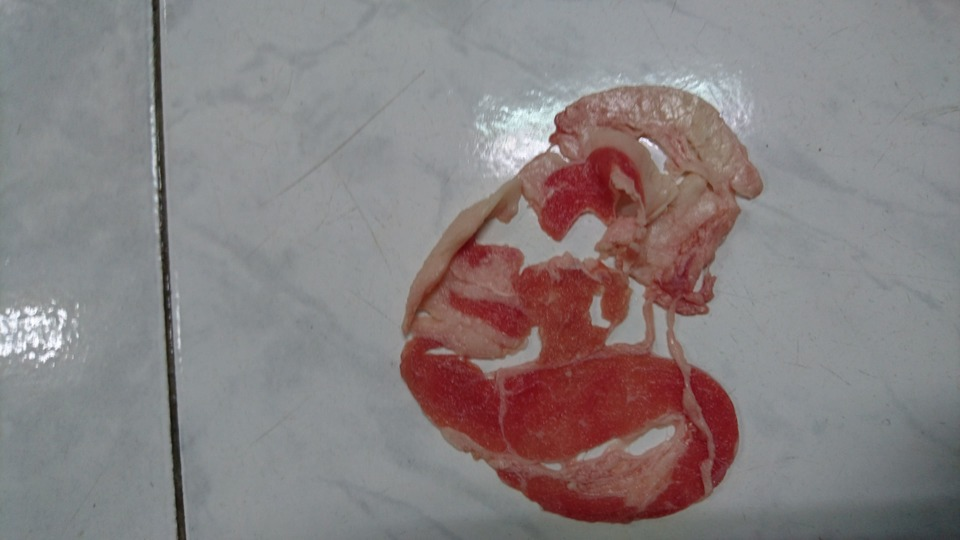restructured meat: (402, 81, 742, 533)
